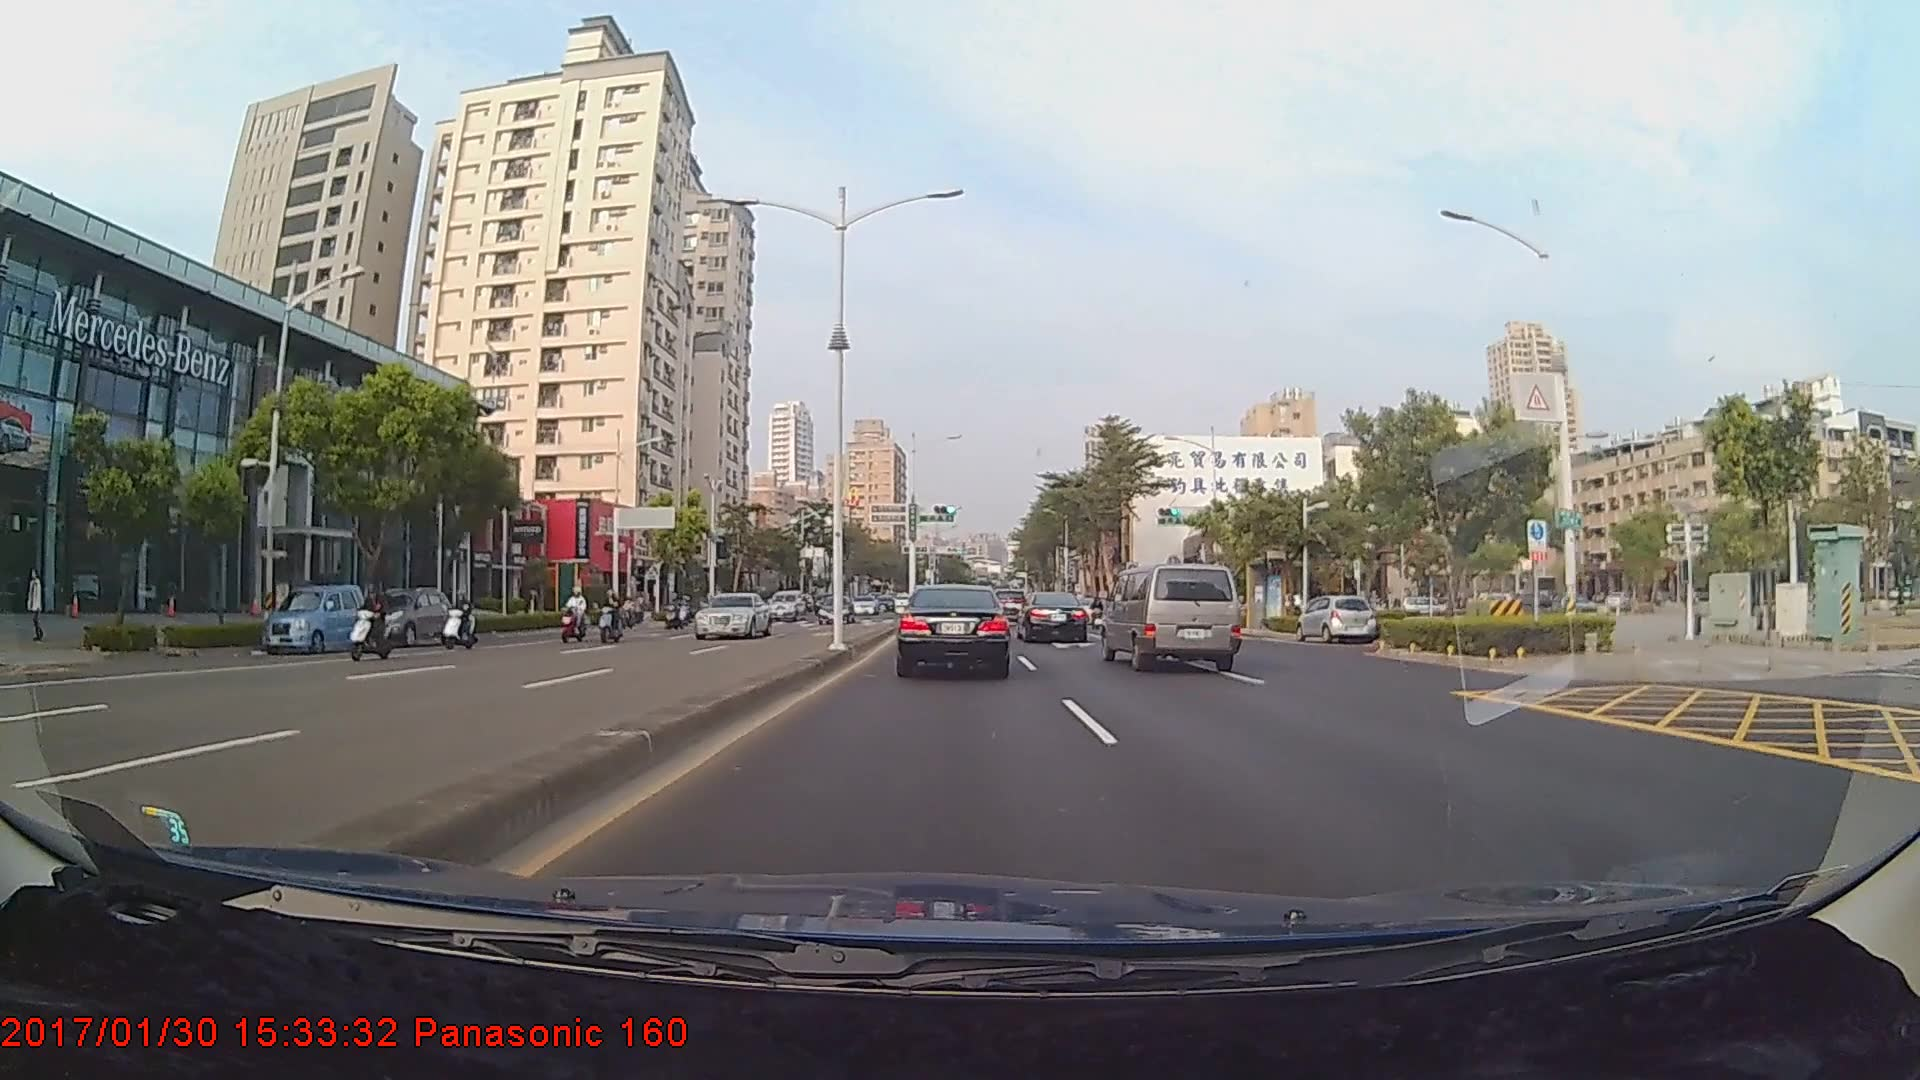pedestrian: (27, 570, 50, 642)
rider: (338, 580, 400, 667), (438, 584, 483, 653), (556, 579, 596, 644), (598, 586, 631, 645), (660, 590, 687, 635)
vehicle: (1099, 561, 1242, 673), (898, 581, 1012, 678), (258, 583, 374, 655), (353, 584, 455, 644), (1295, 595, 1377, 644), (1017, 591, 1089, 644), (692, 589, 770, 636)
